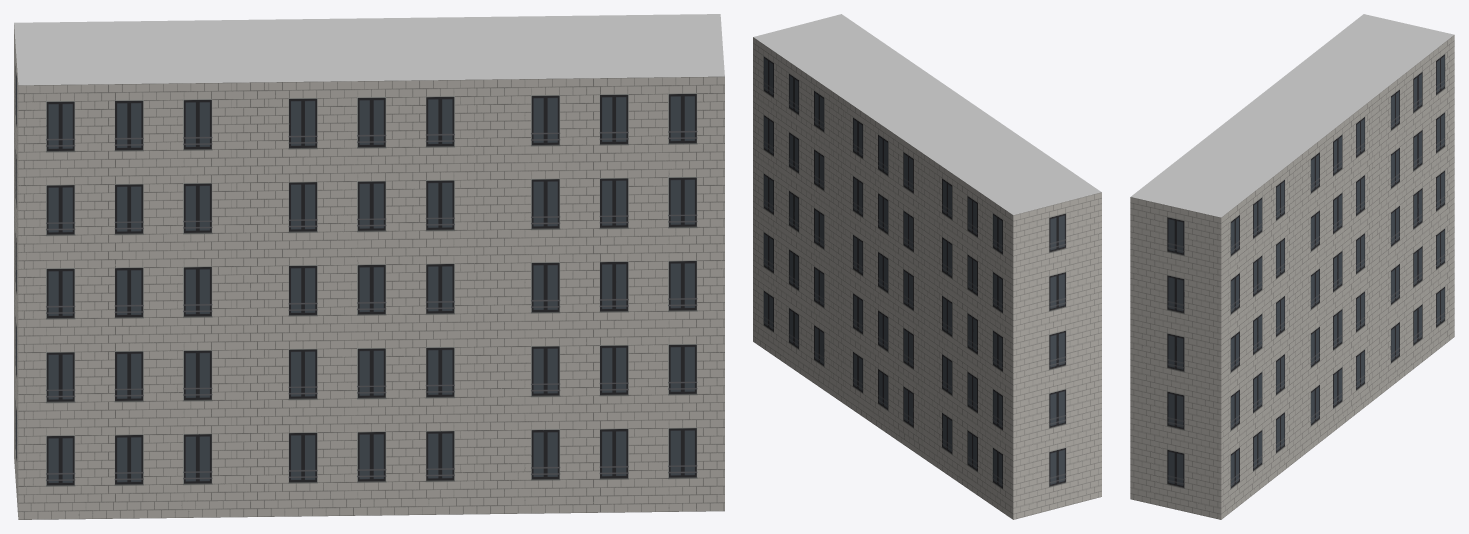
The model's file is building-1-1-34.dae.
3 views of the same model, side by side, from view 1: azimuth 30°, elevation 25°; view 2: azimuth 150°, elevation 25°; view 3: azimuth 270°, elevation 25° (orthographic). The views are drawn at different scales.
Parts seen in each view (by area): view 1: geopipeinodeOxHjAyQ- (×3); view 2: geopipeinodeOxHjAyQ- (×3); view 3: geopipeinodeOxHjAyQ- (×3).
Part boxes in pixels (left/top/right/bottom): geopipeinodeOxHjAyQ- (×3): left=14, top=14, right=724, bottom=519; geopipeinodeOxHjAyQ- (×3): left=753, top=14, right=1101, bottom=519; geopipeinodeOxHjAyQ- (×3): left=1130, top=14, right=1454, bottom=519.
Bounding box in the file's own units: 30.18 × 20.3 × 20.9.
